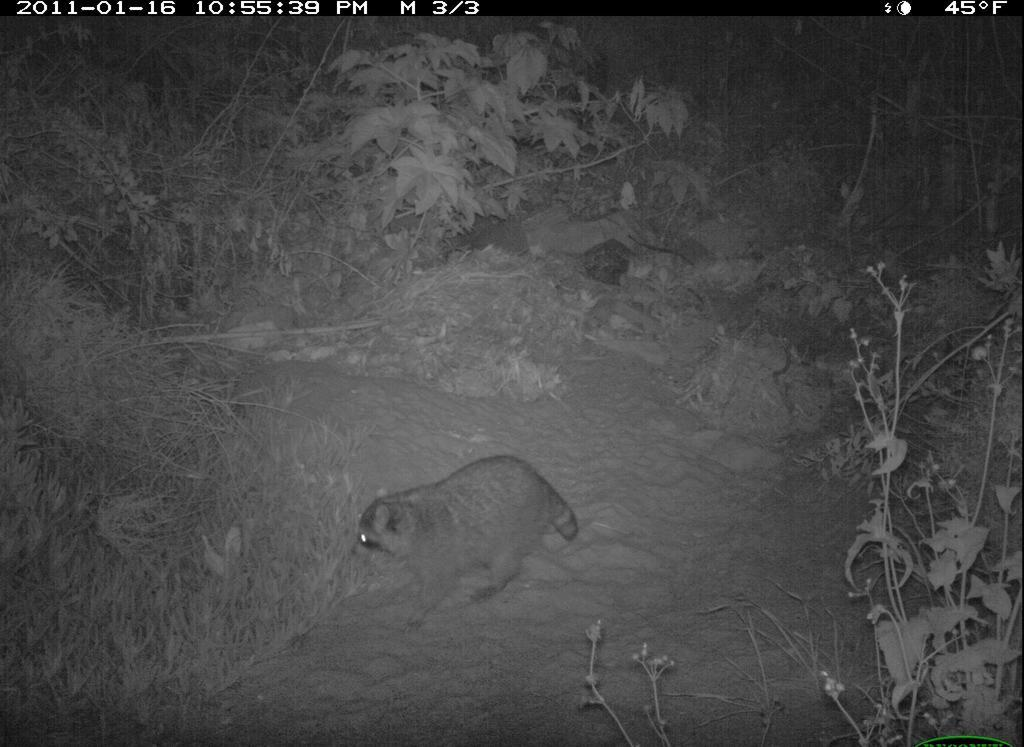raccoon: (361, 455, 582, 626)
